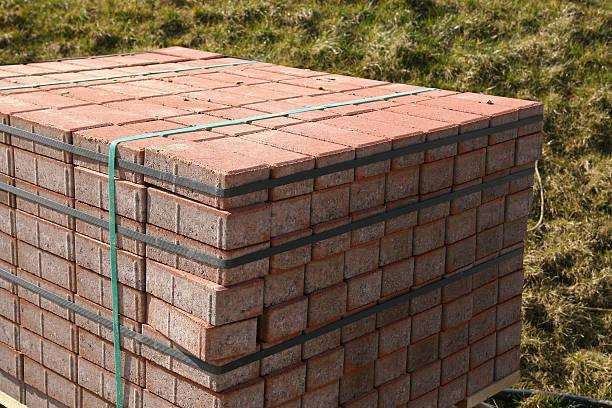Bricks: (145, 142, 271, 209), (145, 259, 264, 324), (144, 295, 259, 358), (141, 188, 270, 244), (211, 132, 315, 199), (146, 230, 271, 285), (282, 115, 397, 174), (249, 125, 354, 185), (145, 337, 261, 391), (321, 114, 428, 170), (144, 359, 265, 407), (73, 126, 177, 180), (356, 108, 459, 162), (386, 100, 490, 151), (417, 95, 516, 146), (9, 109, 92, 160), (72, 231, 143, 290), (452, 90, 545, 135), (75, 325, 143, 386), (74, 198, 143, 258), (17, 298, 88, 355), (12, 325, 82, 380), (15, 269, 79, 328), (75, 300, 139, 357), (79, 168, 146, 222), (13, 244, 83, 294), (19, 354, 81, 407), (11, 212, 74, 263), (80, 361, 149, 407), (79, 271, 136, 325), (12, 148, 74, 197), (17, 181, 72, 235), (291, 91, 399, 116), (128, 118, 213, 145), (251, 98, 342, 123), (177, 112, 264, 136), (212, 105, 294, 129), (62, 103, 144, 127), (149, 93, 222, 118), (55, 83, 141, 104), (103, 102, 185, 121), (19, 91, 92, 111), (186, 89, 257, 108), (272, 234, 309, 270), (346, 240, 383, 275), (229, 85, 291, 105), (265, 80, 334, 97), (308, 257, 348, 286), (271, 306, 304, 341), (316, 222, 353, 253), (415, 216, 447, 251), (262, 341, 302, 367), (313, 287, 345, 319), (307, 331, 347, 356), (381, 266, 416, 293), (384, 235, 416, 264), (344, 371, 376, 400), (476, 231, 504, 264), (268, 276, 303, 302), (387, 199, 417, 229), (440, 297, 471, 326), (269, 375, 304, 400), (376, 353, 405, 383), (352, 184, 388, 208), (410, 371, 442, 398), (491, 272, 526, 296), (348, 339, 379, 366), (442, 353, 469, 384), (414, 308, 440, 340), (405, 344, 437, 370), (452, 243, 477, 276), (276, 205, 310, 229), (0, 93, 37, 115), (379, 323, 408, 351), (350, 277, 382, 302), (309, 359, 341, 384), (382, 380, 410, 408), (420, 166, 449, 193), (494, 302, 524, 328), (490, 142, 517, 170), (441, 326, 469, 353), (320, 191, 349, 217), (460, 157, 489, 182), (355, 214, 385, 238), (443, 275, 473, 299), (488, 173, 515, 199), (452, 214, 476, 243), (381, 296, 411, 319), (390, 174, 416, 200), (470, 341, 496, 367), (414, 282, 441, 307), (475, 262, 500, 288), (301, 386, 329, 408), (349, 313, 378, 334), (501, 252, 530, 272), (419, 253, 442, 278), (472, 291, 494, 316), (522, 137, 543, 163), (469, 317, 495, 338), (456, 187, 484, 204), (501, 223, 526, 242), (478, 204, 504, 222), (501, 330, 520, 353), (513, 173, 537, 191), (422, 201, 446, 217), (511, 195, 529, 216)
